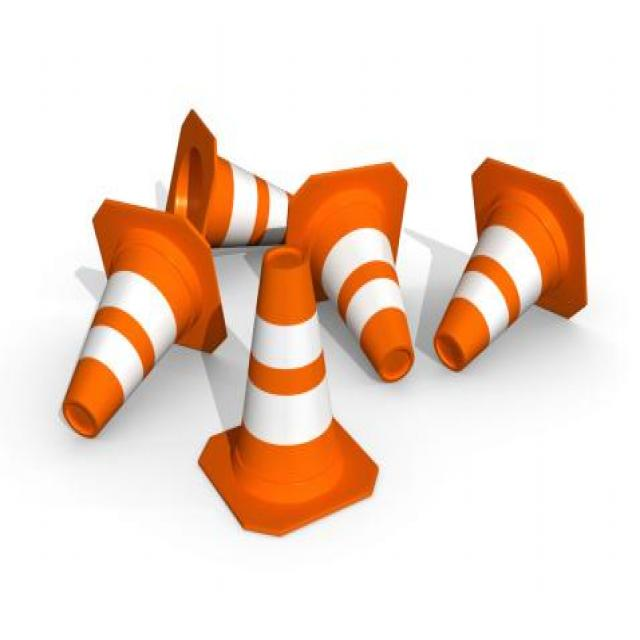Cone: (197, 246, 380, 540), (59, 198, 228, 446), (434, 157, 589, 376), (286, 160, 416, 382), (164, 108, 298, 250)
